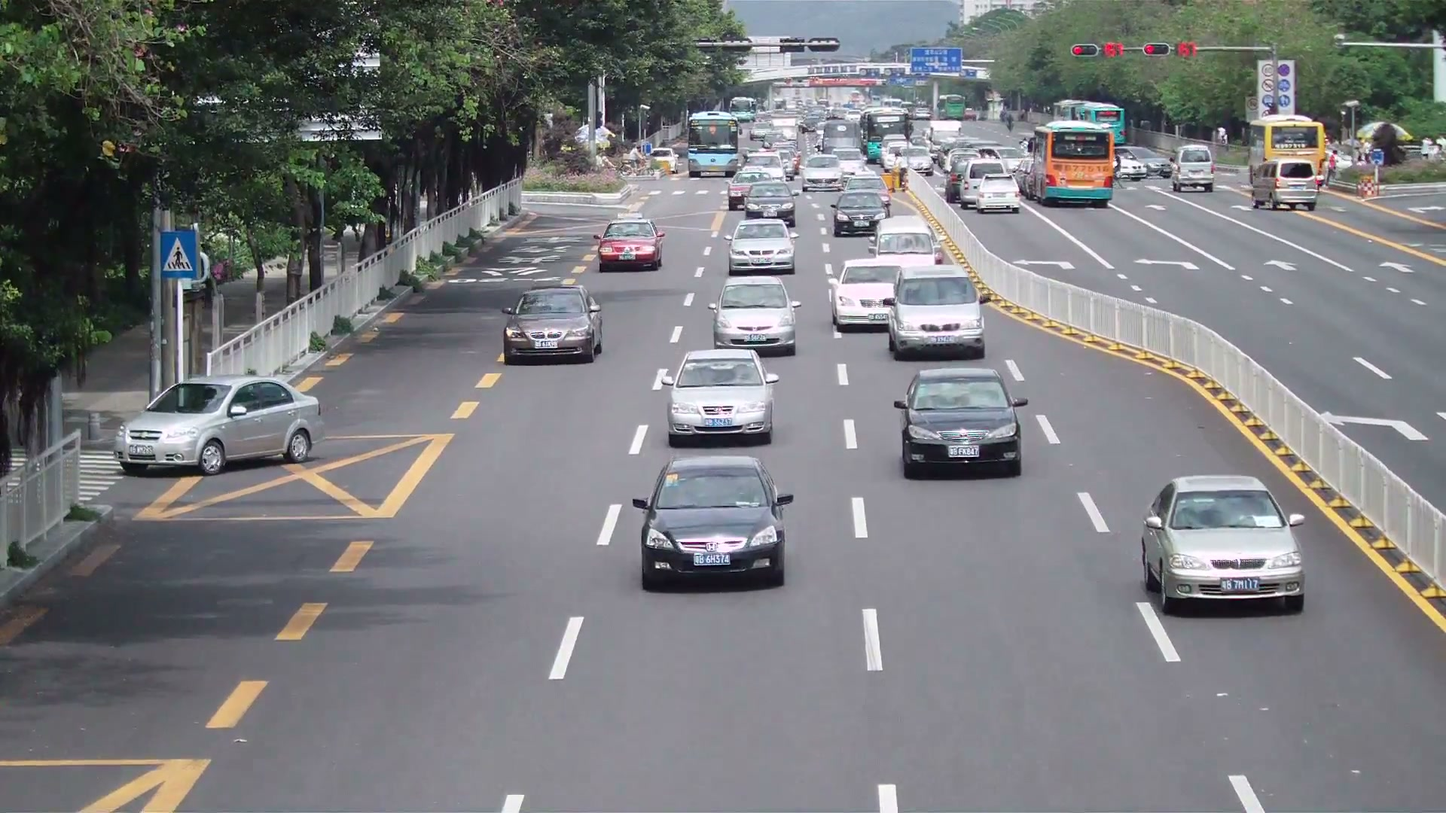bus: (1017, 120, 1116, 207)
car: (1139, 473, 1307, 617), (632, 452, 792, 591), (112, 376, 323, 477), (895, 364, 1028, 479), (665, 347, 777, 446), (887, 268, 986, 361), (500, 285, 605, 364), (714, 276, 798, 356), (829, 256, 911, 333), (727, 219, 797, 274), (595, 216, 664, 271), (962, 169, 1022, 213)
truck: (1019, 121, 1115, 207), (1246, 114, 1325, 211), (686, 109, 742, 177), (1172, 144, 1214, 193)
